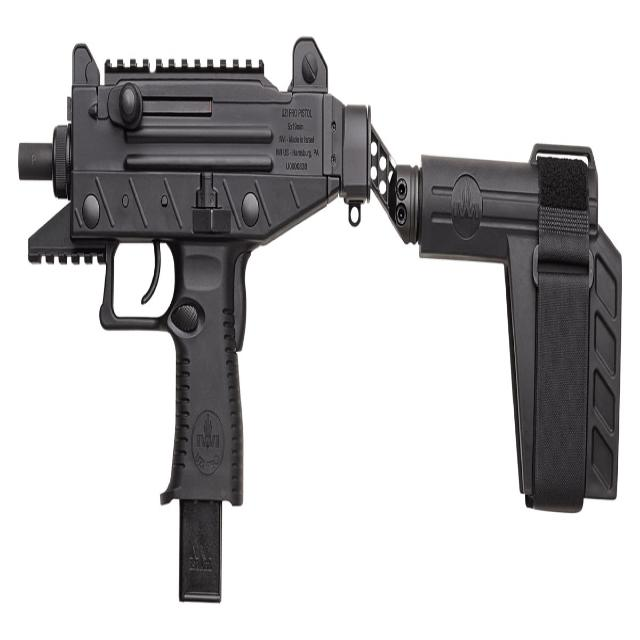SMG: (27, 36, 620, 606)
